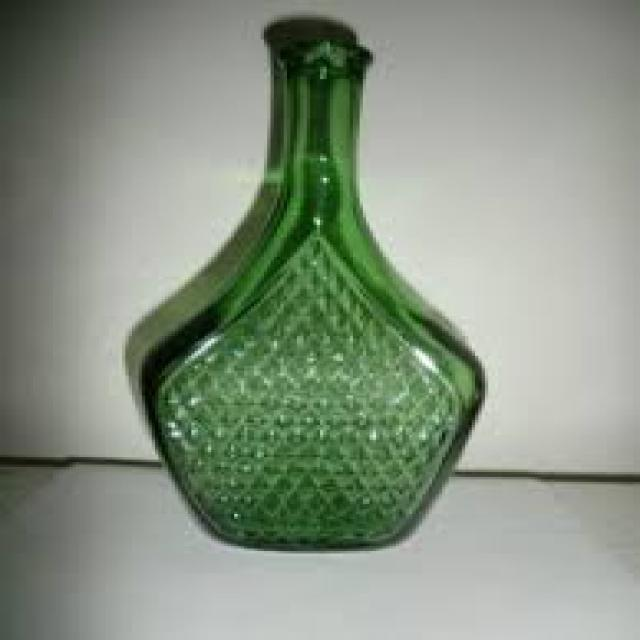glass: (139, 35, 482, 551)
